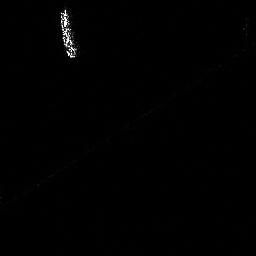ship: (56, 5, 83, 60)
